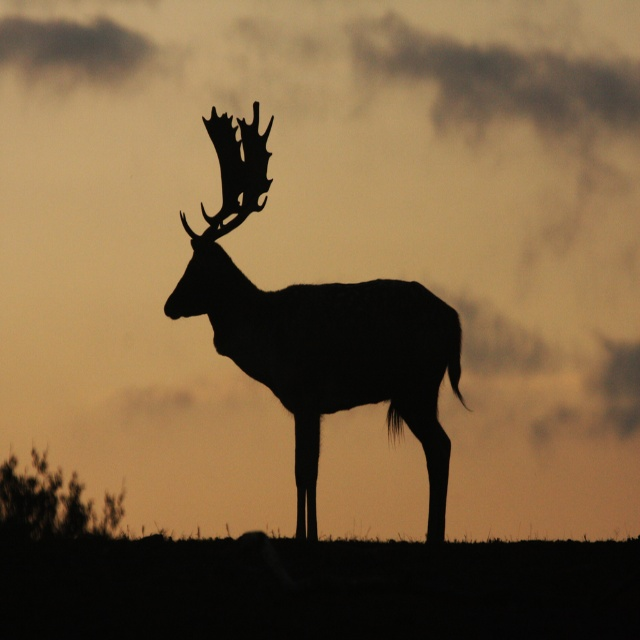Deer: (164, 100, 463, 542)
